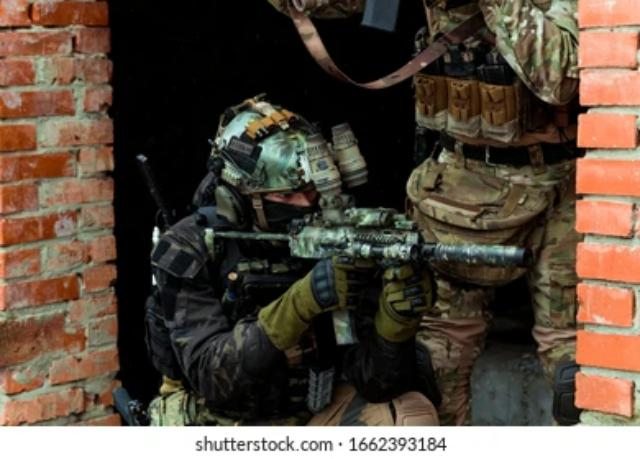other: (390, 0, 582, 417), (151, 96, 379, 421)
